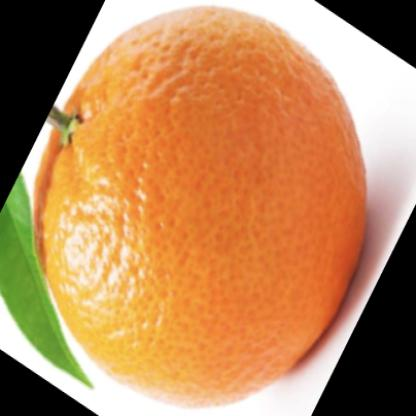fresh: (31, 8, 366, 407)
